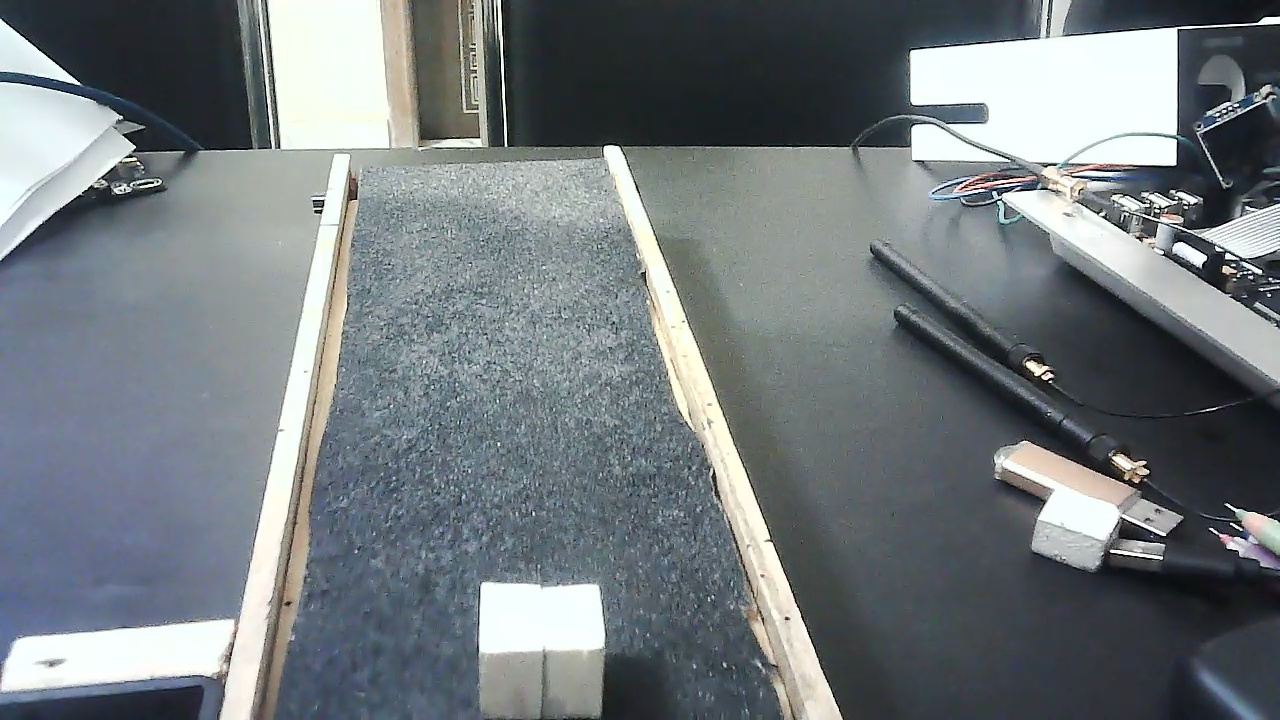Small: (473, 582, 608, 717)
